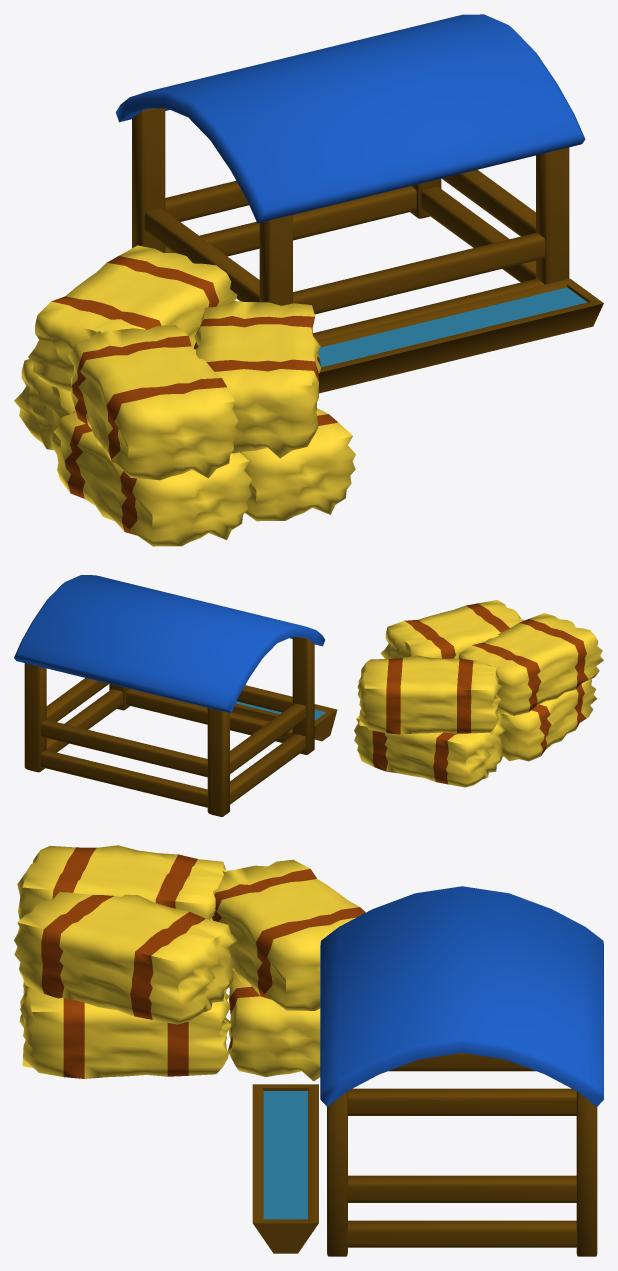
File: Stable_BlueTeam.fbx
3 views of the same model, one above another, from view 1: azimuth 30°, elevation 25°; view 2: azimuth 150°, elevation 25°; view 3: azimuth 270°, elevation 25° (orthographic). The views are drawn at different scales.
Parts seen in each view (by area): view 1: Stables_BlueTeam; view 2: Stables_BlueTeam; view 3: Stables_BlueTeam.
Boxes of the visible parts, x1=… form: Stables_BlueTeam: x1=14, y1=14, x2=603, y2=546; Stables_BlueTeam: x1=14, y1=575, x2=603, y2=816; Stables_BlueTeam: x1=14, y1=845, x2=603, y2=1256.
Size of the model in its own units: 3328 by 1219 by 2895.
